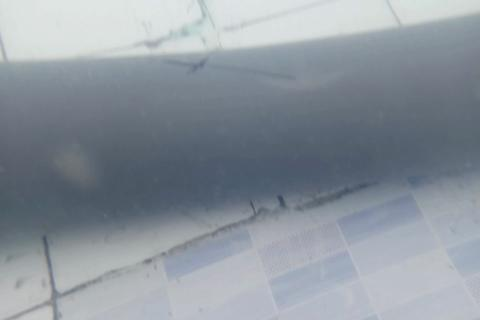keretakan: (161, 55, 297, 83)
